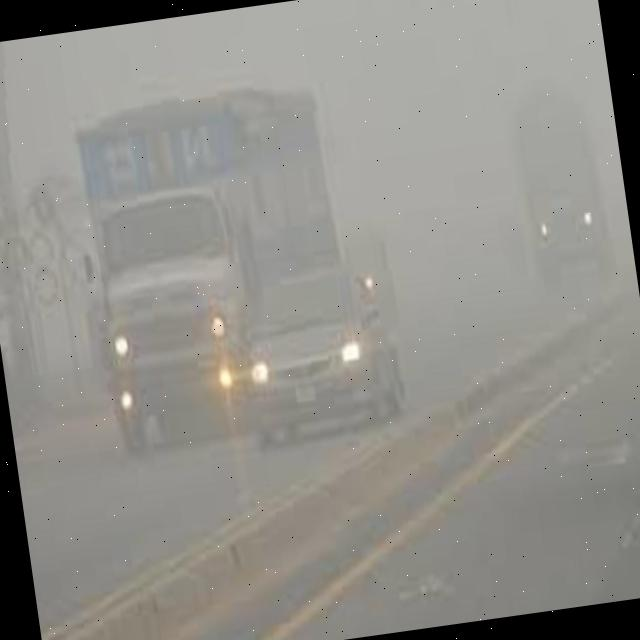bus: (68, 80, 358, 462), (510, 81, 618, 282)
car: (238, 260, 406, 442)
